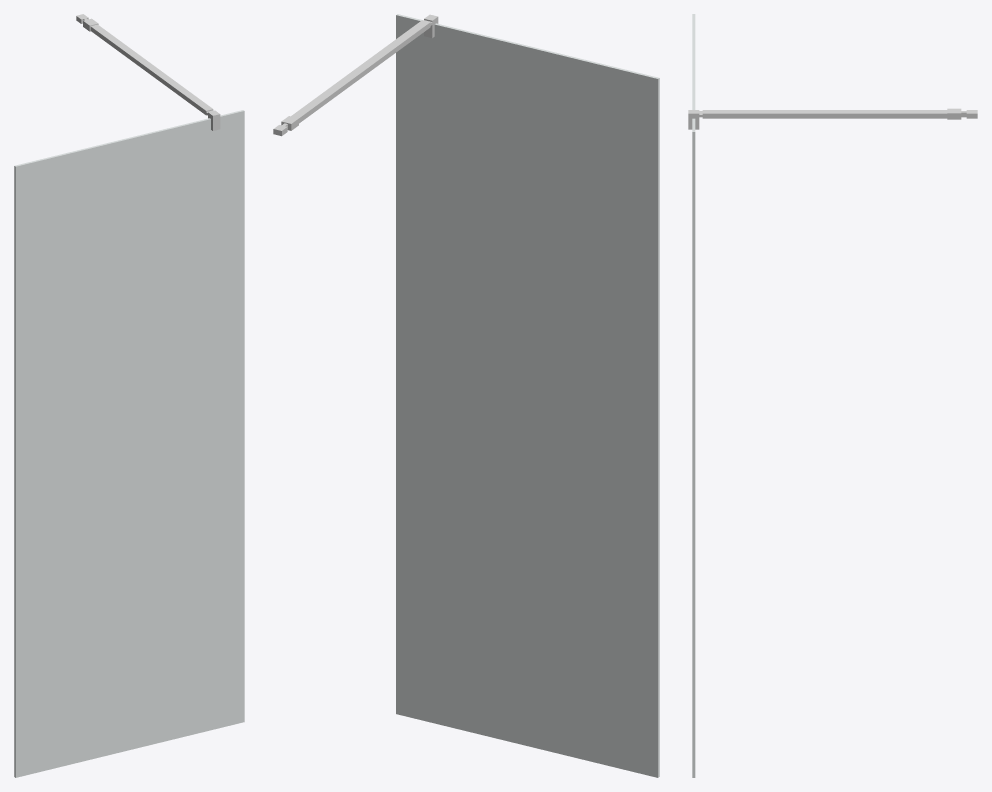
File: AEC_49183.glb
The picture shows the model from 3 angles, left to right: view 1: azimuth 30°, elevation 25°; view 2: azimuth 150°, elevation 25°; view 3: azimuth 270°, elevation 25°; orthographic projection. The views are drawn at different scales.
Parts seen in each view (by area): view 1: 0; view 2: 0; view 3: 0.
Boxes of the visible parts, bbox=[...] form: 0: bbox=[14, 14, 244, 777]; 0: bbox=[273, 14, 659, 777]; 0: bbox=[688, 14, 977, 777].
Bounding box in the file's own units: 0.784 × 2.02 × 0.8111.
Materials: 1 (1 with a texture image).
